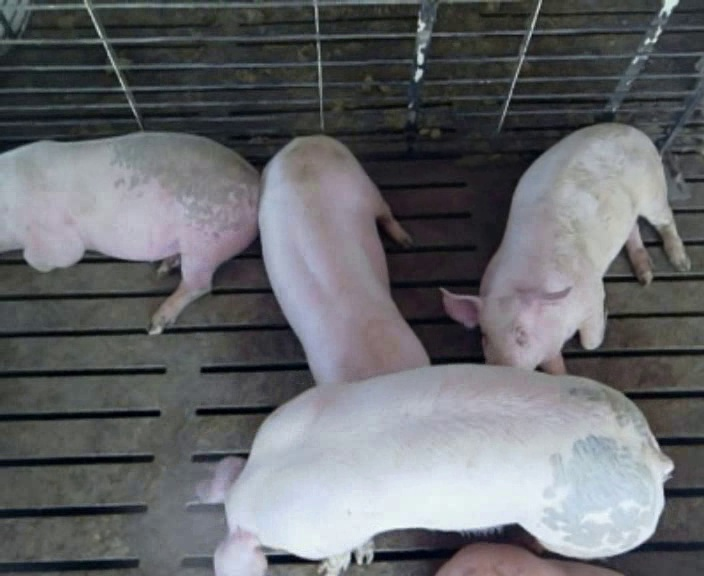pig: (196, 365, 672, 575), (442, 123, 689, 373)
